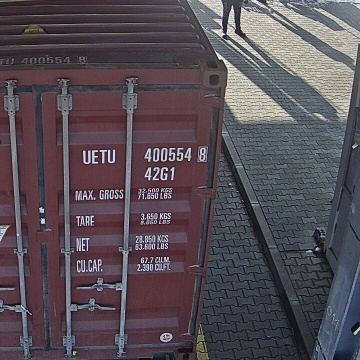serial_id: (83, 147, 206, 164)
